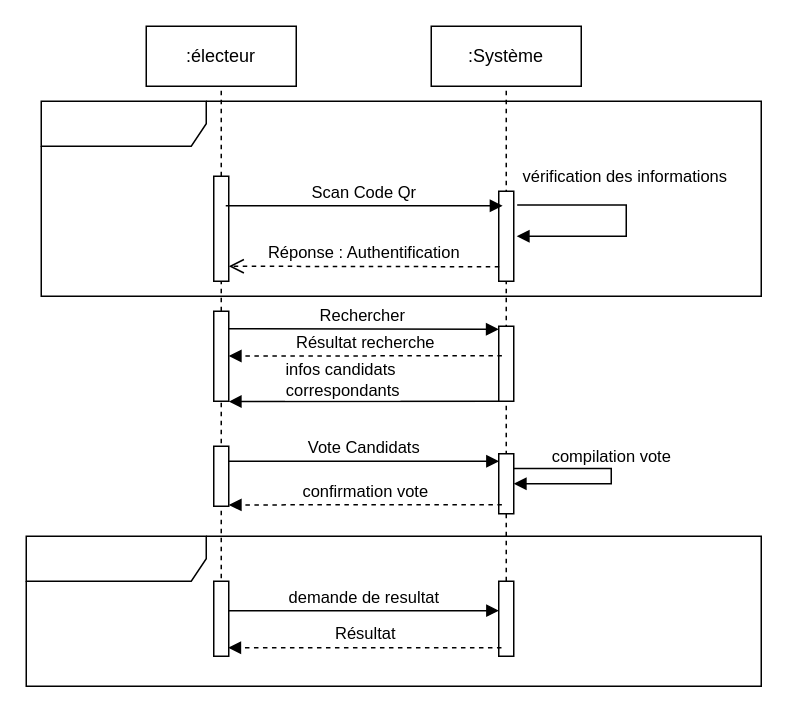
The diagram is 788 pixels wide and 713 high, and some of its shapes have lost their labels. Each missing label, with the centre of its shape:
"Opt(codeQr non reconnu)" belongs at [400,198].
"Opt(élection en cours)" belongs at [393,610].
